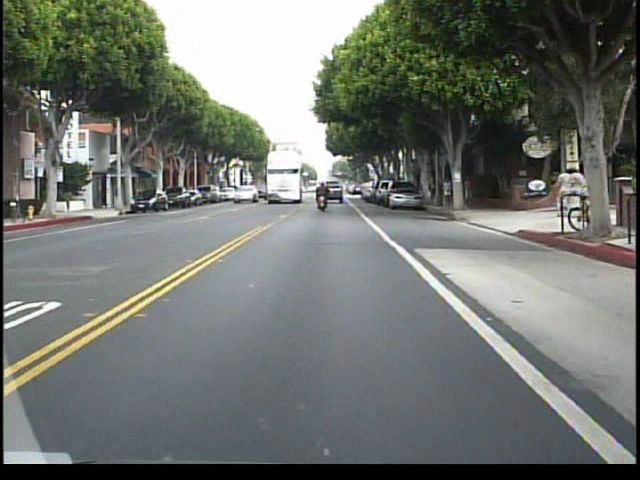person: (313, 177, 332, 221), (440, 174, 452, 207), (465, 175, 475, 207), (456, 173, 465, 206)
